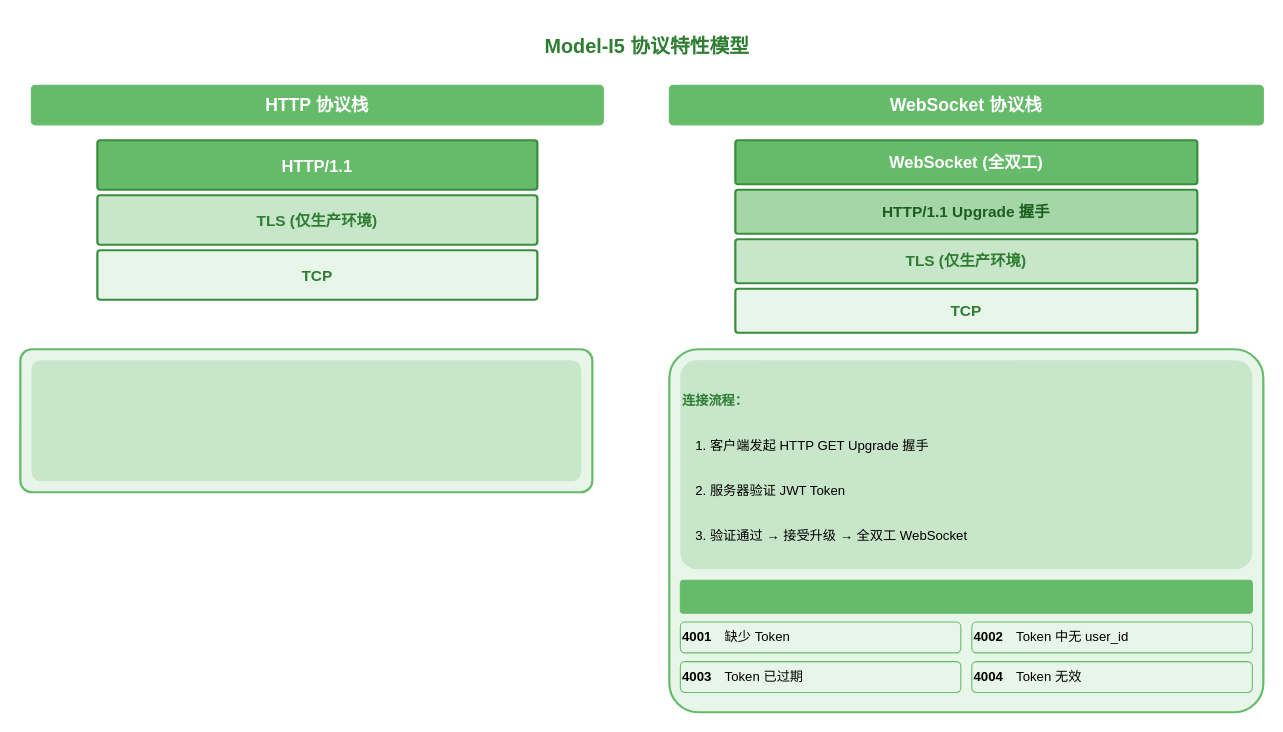
Some shapes in this 1283 by 732 pixel diagram are drawn without their labels. The shapes that lost their labels are listed below. From the top down, each one's centre as x and y in pixels, then its label:
(306,420): 开发环境 (Dev)： 无 TLS，使用明文 HTTP 直接通信
(965,596): 认证失败关闭码
